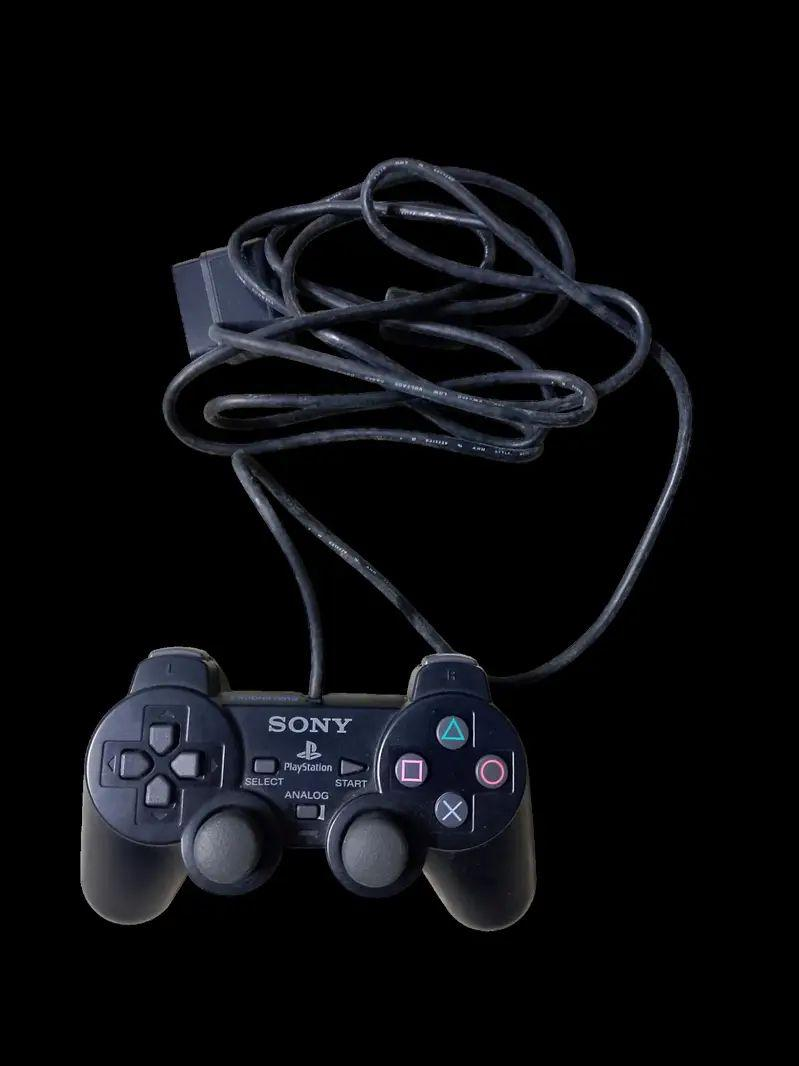electronic: (62, 152, 714, 932)
